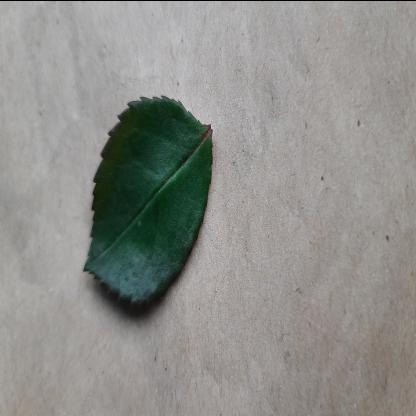normal: (82, 85, 216, 317)
